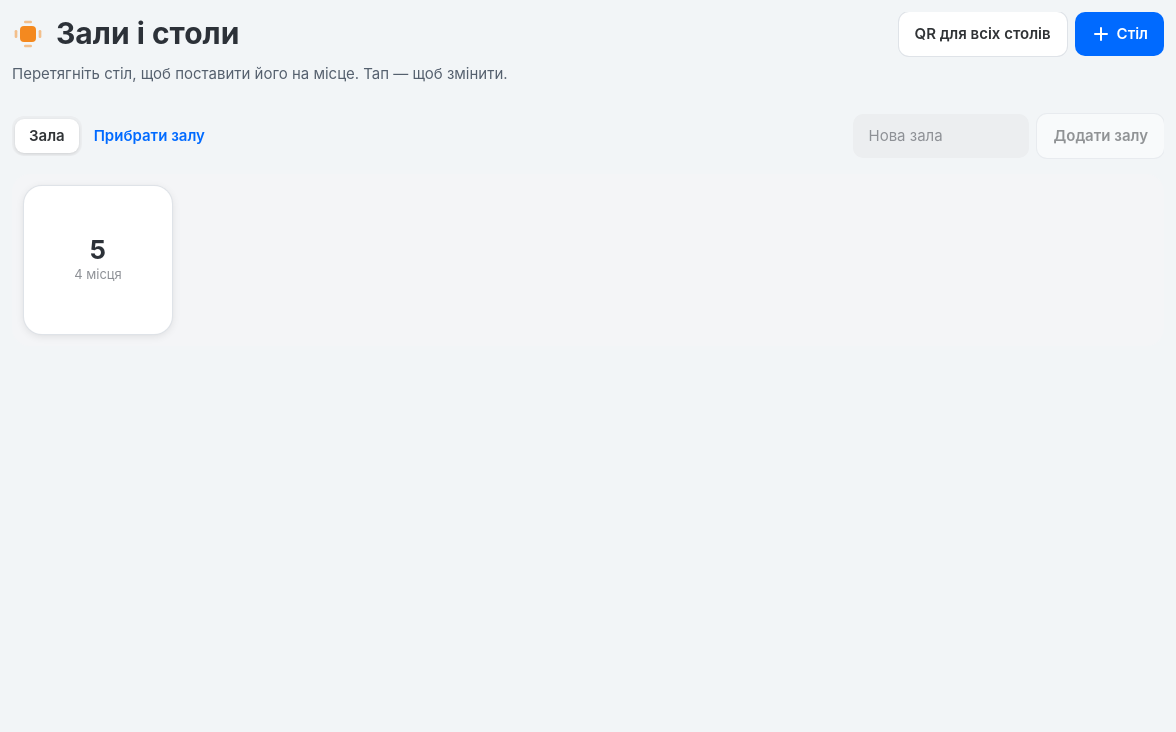
Test case: HallEditorPage › the QR of a table (guest menu, Q2) › links the table being edited to the card the server draws for it
Click the button with test id "editor-table-11". click: click(98, 260)
box: 24,186 -> 172,334
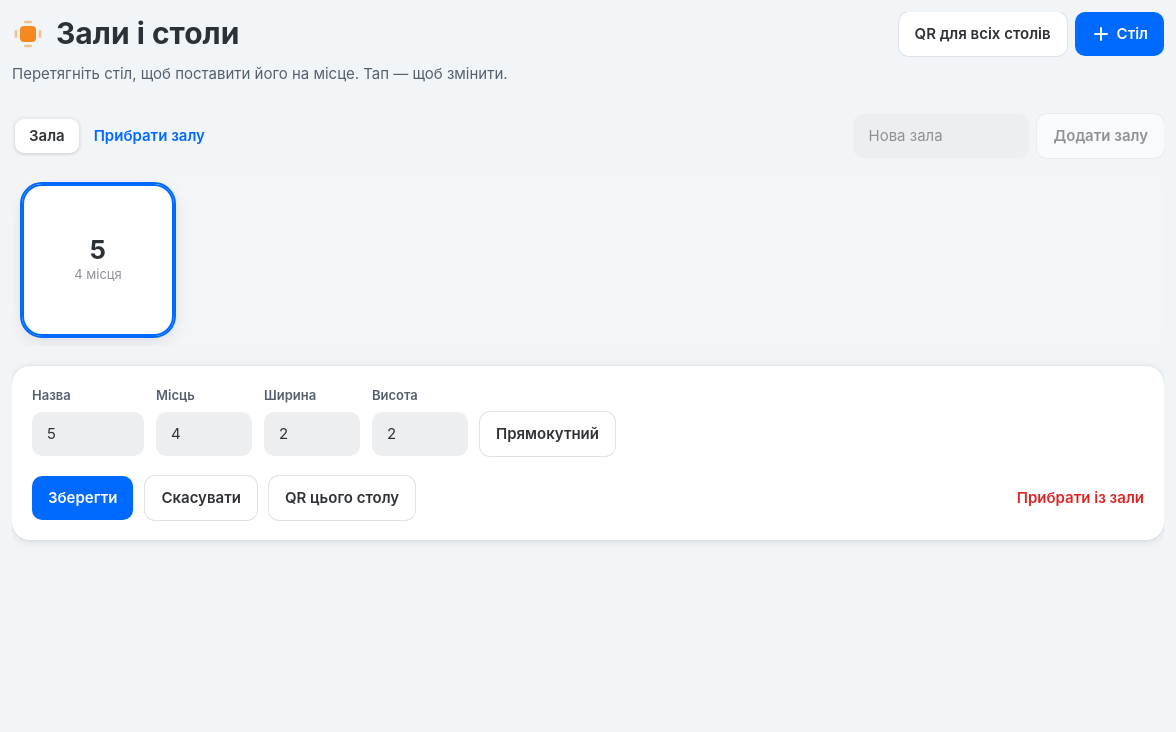
Check: the link with test id "editor-form-qr" reads "QR цього столу", box 269,476 -> 415,520
